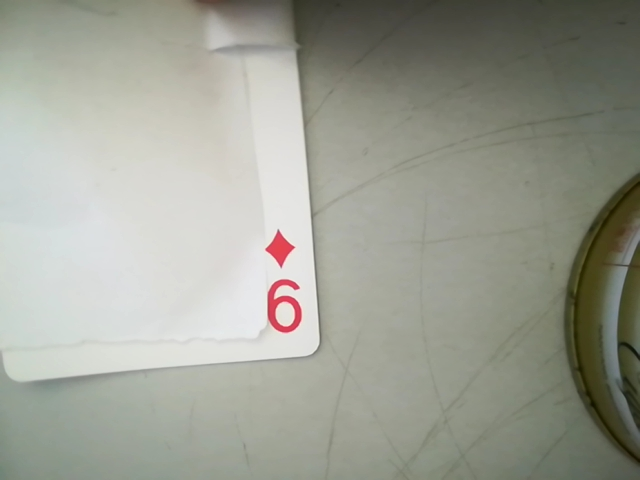fk 9: (255, 223, 315, 349)
